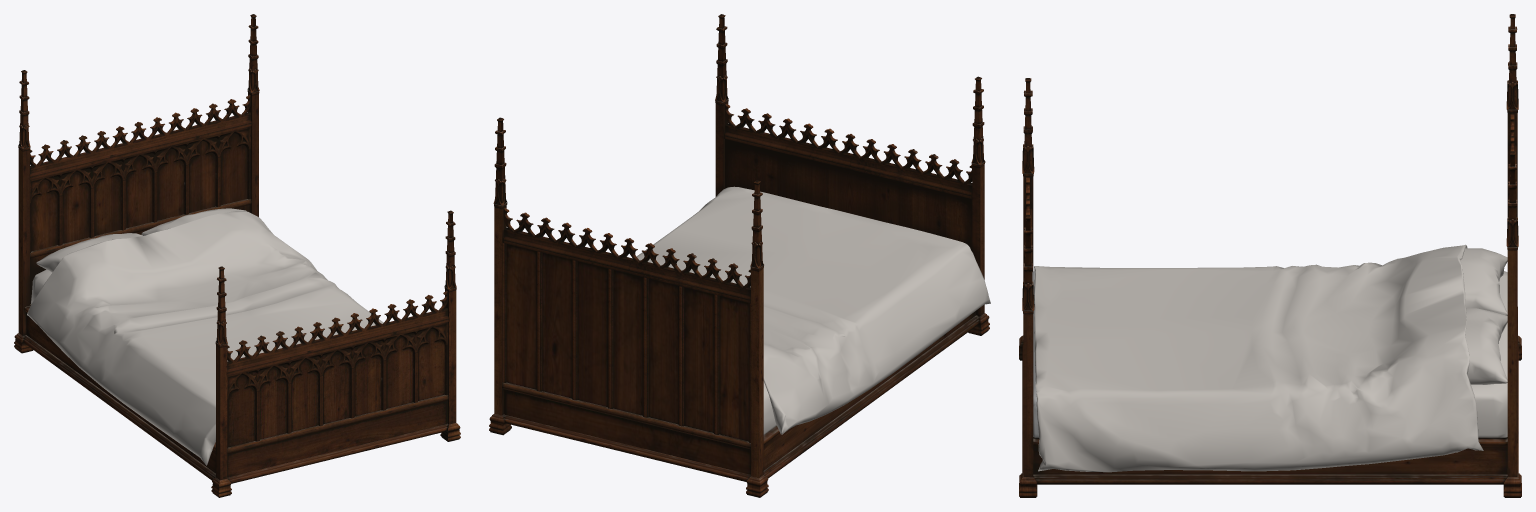
Rendered from bed.glb.
The picture shows the model from 3 angles, left to right: view 1: azimuth 30°, elevation 25°; view 2: azimuth 150°, elevation 25°; view 3: azimuth 270°, elevation 25°; orthographic projection. The views are drawn at different scales.
Parts seen in each view (by area): view 1: bed.001; view 2: bed.001; view 3: bed.001.
Boxes of the visible parts, <box> form: bed.001: <box>14,14,460,497</box>; bed.001: <box>489,14,990,497</box>; bed.001: <box>1019,14,1521,497</box>.
Bounding box in the file's own units: 1.49 × 1.53 × 2.04.
Materials: 1 (1 with a texture image).
